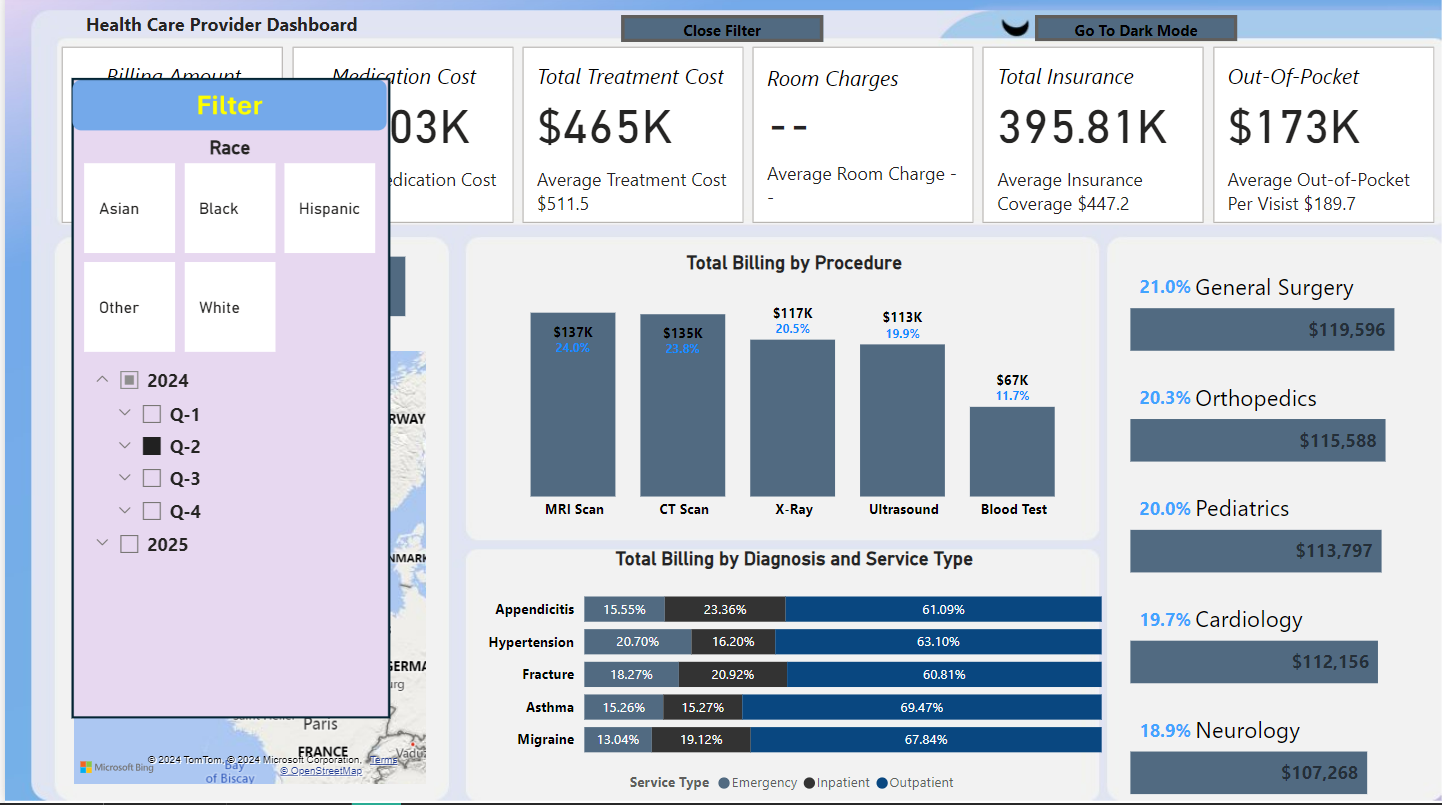

The dashboard page shown, as its layout file describes it:
{"tool":"powerbi","page":{"name":"light mode","canvas":[1280,720],"ordinal":1},"visuals":[{"type":"cardVisual","fields":{"Data":["_Measures.Total Billing","_Measures.Total medication Cost","_Measures.Total Treatment Cost","_Measures.Total Room Charges","_Measures.Total Insurance Coverage","_Measures.Out-Of-Pocket"]},"box":[45.7,41.6,1234.6,167.7],"z":0},{"type":"filledMap","fields":{"Category":["cities.State"]},"box":[56.8,292.4,322.8,414.3],"z":1000},{"type":"advancedSlicerVisual","fields":{"Values":["Location Pramter.Location Pramter"]},"box":[101.1,228.6,261.9,63.7],"z":2000},{"type":"columnChart","fields":{"Category":["procedures.Procedure"],"Y":["_Measures.Total Billing"]},"box":[424.5,228,557.7,248.6],"z":3000},{"type":"hundredPercentStackedBarChart","fields":{"Y":["_Measures.Total Billing"],"Category":["diagnoses.Diagnosis"],"Series":["visits.Service Type"]},"box":[424.5,491.8,557.7,228],"z":4000},{"type":"clusteredBarChart","fields":{"Category":["departments.Department"],"Y":["_Measures.Blank Measures","_Measures.Total Billing"]},"box":[997.3,228,273.4,491.8],"z":5000},{"type":"actionButton","box":[917.3,18,180.1,23.6],"z":6000},{"type":"textbox","box":[45.8,9.7,299.2,31.4],"z":10000},{"type":"actionButton","box":[550.5,16.5,180.1,24.1],"z":12000}]}

Visuals, with their boxes in screenshot pixels (x1, y1, x2, y2), scaled from the page's 1280x720 canvas onto the 1442x805 screenshot:
cardVisual - _Measures.Total Billing x _Measures.Total medication Cost: 51, 47, 1441, 234
filledMap - cities.State: 64, 327, 428, 790
advancedSlicerVisual - Location Pramter.Location Pramter: 114, 256, 409, 327
columnChart - procedures.Procedure x _Measures.Total Billing: 478, 255, 1107, 533
hundredPercentStackedBarChart - _Measures.Total Billing x diagnoses.Diagnosis: 478, 550, 1107, 804
clusteredBarChart - departments.Department x _Measures.Blank Measures: 1124, 255, 1432, 804
actionButton: 1033, 20, 1236, 47
textbox: 52, 11, 389, 46
actionButton: 620, 18, 823, 45
